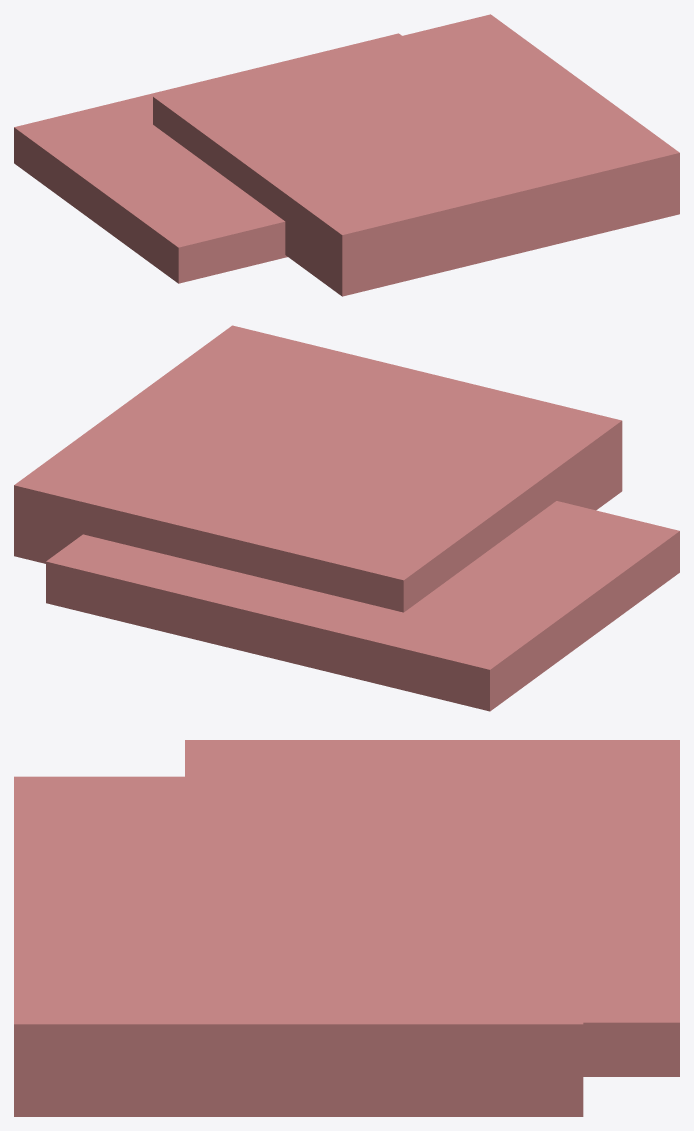
Rendered from 239540_occ.glb.
3 views of the same model, one above another, from view 1: azimuth 30°, elevation 25°; view 2: azimuth 150°, elevation 25°; view 3: azimuth 270°, elevation 25° (orthographic). The views are drawn at different scales.
Parts seen in each view (by area): view 1: world; view 2: world; view 3: world.
Boxes of the visible parts, <box> form: world: <box>14,14,679,296</box>; world: <box>14,325,679,711</box>; world: <box>14,740,679,1116</box>.
Bounding box in the file's own units: 4.42 × 0.6085 × 3.81.
